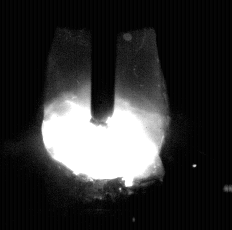arame: (92, 0, 116, 129)
poca: (40, 0, 170, 230)
